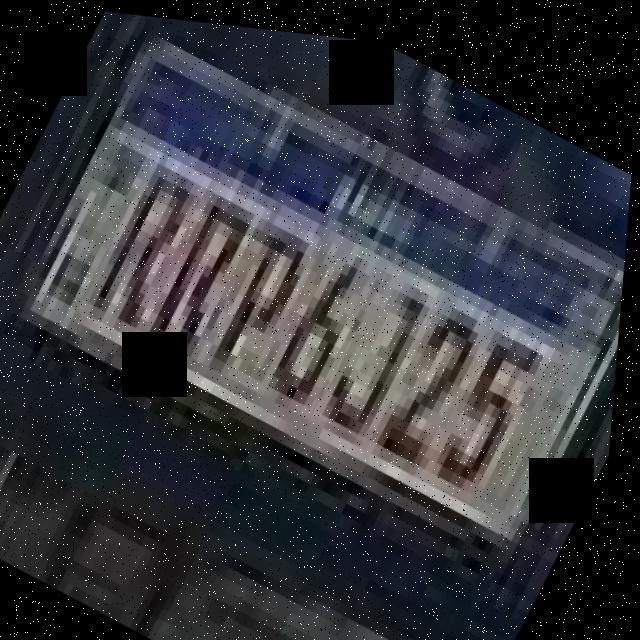5: (426, 303, 561, 500)
6: (262, 227, 388, 413)
J: (316, 249, 445, 439)
P: (202, 205, 327, 395)
R: (80, 141, 216, 344), (142, 173, 268, 363)
